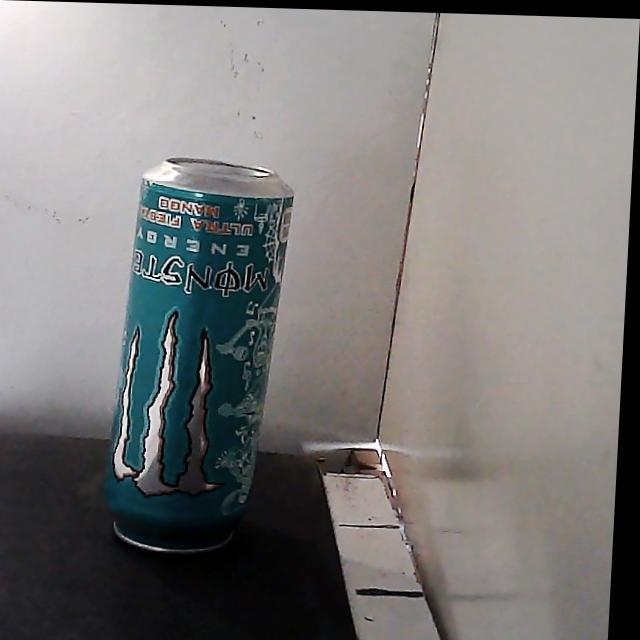metal: (106, 157, 293, 551)
